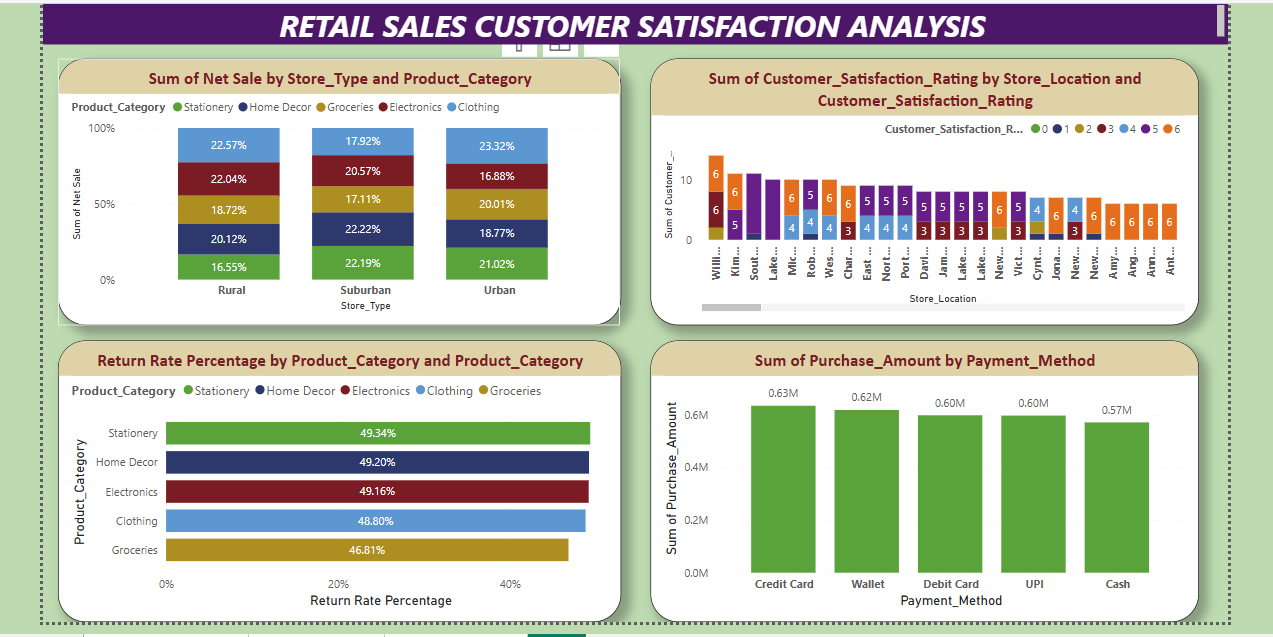

Layout of this report page (visuals, bound fields, positions):
{"tool":"powerbi","page":{"name":"Visualization","canvas":[1280,720],"ordinal":0},"visuals":[{"type":"hundredPercentStackedColumnChart","fields":{"Category":["Sheet1.Store_Type"],"Series":["Sheet1.Product_Category"],"Y":["Sheet1.Net Sale 2"]},"box":[16,112,608,288],"z":0},{"type":"columnChart","fields":{"Category":["Sheet1.Store_Location"],"Series":["Sheet1.Customer_Satisfaction_Rating"],"Y":["Sheet1.Customer_Satisfaction_Rating"]},"box":[656,112,592,288],"z":1000},{"type":"clusteredColumnChart","fields":{"Category":["Sheet1.Payment_Method"],"Y":["Sheet1.Purchase_Amount"]},"box":[656,416,592,304],"z":2000},{"type":"barChart","fields":{"Category":["Sheet1.Product_Category"],"Y":["Sheet1.Return Rate Percentage"],"Series":["Sheet1.Product_Category"]},"box":[16,416,608,304],"z":3000},{"type":"textbox","box":[0,48,1280,48],"z":4001}]}

Visuals, with their boxes on the page's 1280x720 design canvas (x1, y1, x2, y2). These are canvas units, not pixel positions in the 1273x637 screenshot, which may show the page scaled, cropped or inside an application window:
hundredPercentStackedColumnChart - Sheet1.Store_Type x Sheet1.Product_Category: [16, 112, 624, 400]
columnChart - Sheet1.Store_Location x Sheet1.Customer_Satisfaction_Rating: [656, 112, 1248, 400]
clusteredColumnChart - Sheet1.Payment_Method x Sheet1.Purchase_Amount: [656, 416, 1248, 720]
barChart - Sheet1.Product_Category x Sheet1.Return Rate Percentage: [16, 416, 624, 720]
textbox: [0, 48, 1280, 96]
